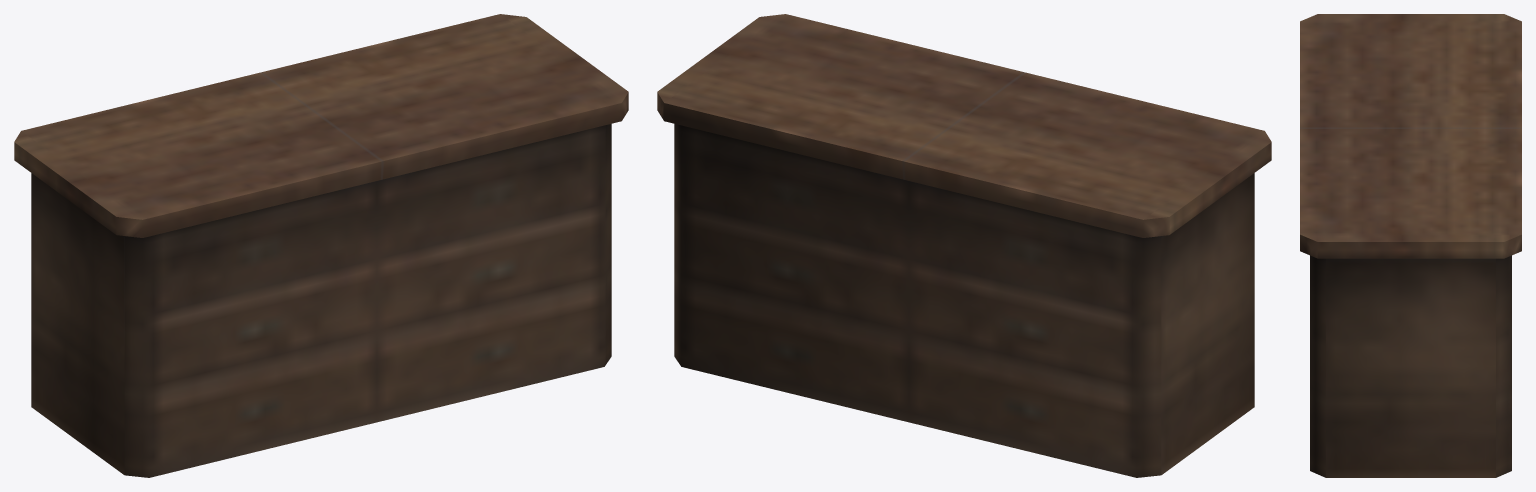
The model's file is MiniBR_Table002.fbx.
The picture shows the model from 3 angles, left to right: view 1: azimuth 30°, elevation 25°; view 2: azimuth 150°, elevation 25°; view 3: azimuth 270°, elevation 25°; orthographic projection. The views are drawn at different scales.
Visible parts, largest first — view 1: MiniBR_Table002; view 2: MiniBR_Table002; view 3: MiniBR_Table002.
Part boxes in pixels (<box>): MiniBR_Table002: <box>14,14,628,477</box>; MiniBR_Table002: <box>657,14,1271,477</box>; MiniBR_Table002: <box>1300,14,1521,477</box>.
Bounding box in the file's own units: 174 × 71.56 × 86.02.
Materials: 1 (1 with a texture image).
